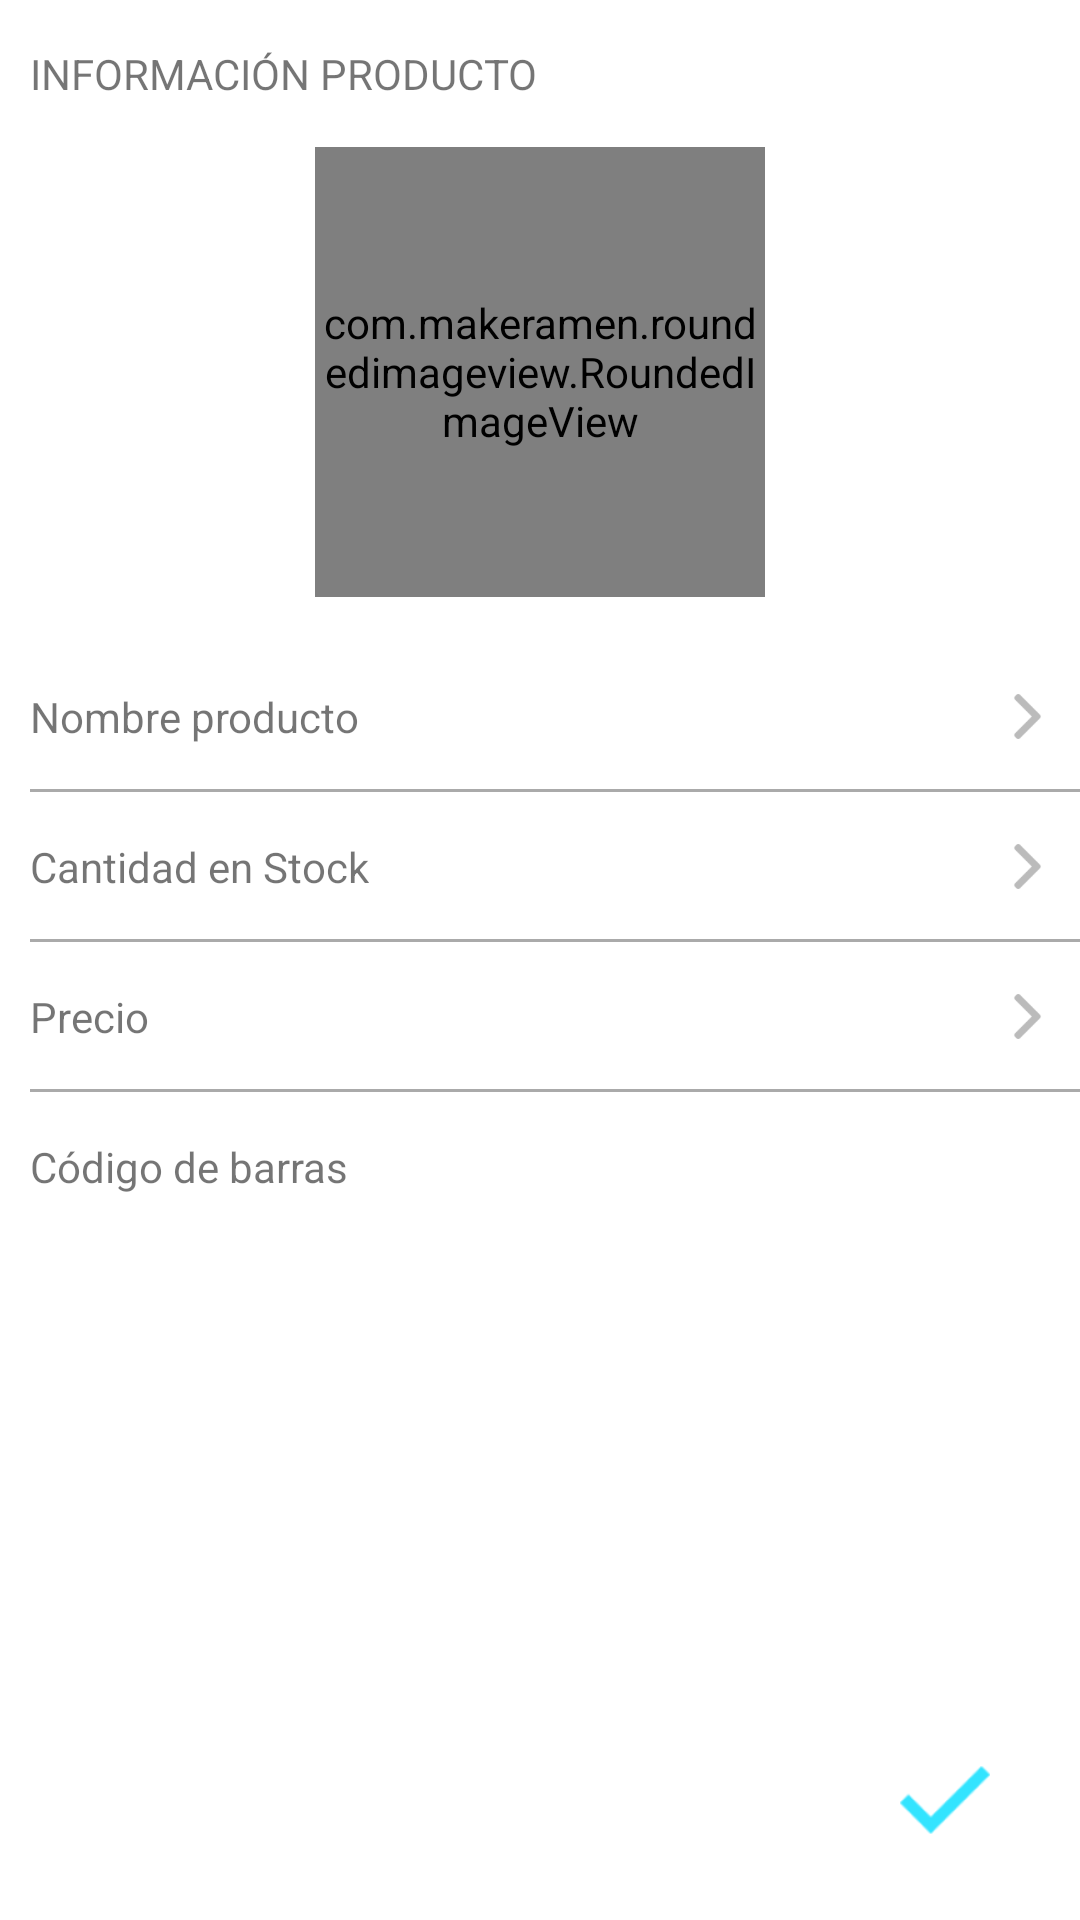

Point at icon controls on the screen. Image size 1080*1920, points as point (x, y).
right arrow: point (1027, 716), point (1027, 866), point (1027, 1016)
save: point (945, 1800)
